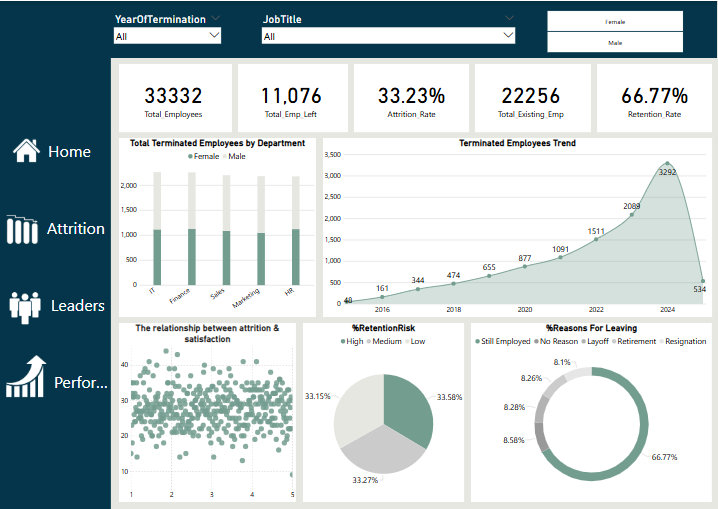

The dashboard page shown, as its layout file describes it:
{"tool":"powerbi","page":{"name":"Attrition","canvas":[2400,1700],"ordinal":1},"visuals":[{"type":"shape","box":[0,0,371.5,1700],"z":0},{"type":"card","fields":{"Values":["Measures (2).Total_Existing_Emp"]},"box":[1589.6,210.8,388.2,227.6],"z":1000},{"type":"card","fields":{"Values":["Measures (2).Total_Emp_Left"]},"box":[796.5,210.8,368.1,227.6],"z":2000},{"type":"card","fields":{"Values":["Measures (2).Total_Employees"]},"box":[398.2,210.8,378.1,227.6],"z":3000},{"type":"shape","box":[354.7,0,2044.7,190.7],"z":4000},{"type":"columnChart","title":"Total Terminated Employees by Department","fields":{"Category":["HR Data1.Department"],"Series":["HR Data1.Gender"],"Y":["CountNonNull(HR Data1.EmploymentStatus)"]},"box":[398.2,458.5,659.3,599],"z":5000},{"type":"areaChart","title":"Terminated Employees Trend","fields":{"Y":["CountNonNull(HR Data1.EmployeeName)"],"Category":["HR Data1.YearOfTermination"]},"box":[1080.9,458.5,1301.8,599],"z":6000},{"type":"donutChart","title":"%Reasons For Leaving","fields":{"Y":["CountNonNull(HR Data1.EmployeeName)"],"Category":["HR Data1.ReasonForLeaving"]},"box":[1576.2,1077.6,806.5,599],"z":7000},{"type":"slicer","fields":{"Values":["HR Data1.YearOfTermination"]},"box":[371.5,33.5,378.1,140.6],"z":8000},{"type":"slicer","fields":{"Values":["HR Data1.Gender"]},"box":[1807.1,26.8,502,150.6],"z":9000},{"type":"image","box":[26.8,438.4,123.8,123.8],"z":10000},{"type":"slicer","fields":{"Values":["HR Data1.JobTitle"]},"box":[866.7,33.5,866.7,140.6],"z":11000},{"type":"actionButton","box":[150.6,438.4,157.3,123.8],"z":12000},{"type":"actionButton","box":[150.6,1211.4,220.9,123.8],"z":13000},{"type":"image","box":[0,920.3,164,227.6],"z":14000},{"type":"actionButton","box":[150.6,953.7,204.1,123.8],"z":15000},{"type":"image","box":[0,659.3,150.6,200.8],"z":16000},{"type":"actionButton","box":[150.6,696.1,204.1,123.8],"z":17000},{"type":"pieChart","title":"%RetentionRisk","fields":{"Category":["HR Data1.RetentionRisk"],"Y":["CountNonNull(HR Data1.EmployeeName)"]},"box":[1014,1077.6,538.8,599],"z":18000},{"type":"scatterChart","title":"The relationship between attrition & satisfaction","fields":{"Y":["HR Data1.Total_Employees_Left"],"X":["HR Data1.JobSatisfactionScore"]},"box":[398.2,1077.6,592.3,599],"z":19000},{"type":"card","fields":{"Values":["Measures (2).Retention_Rate"]},"box":[1997.8,210.8,384.8,227.6],"z":20000},{"type":"card","fields":{"Values":["Measures (2).Attrition_Rate"]},"box":[1184.6,210.8,384.8,227.6],"z":21000},{"type":"image","box":[13.4,1174.6,150.6,160.6],"z":22000}]}

Visuals, with their boxes on the page's 2400x1700 design canvas (x1, y1, x2, y2). These are canvas units, not pixel positions in the 718x509 screenshot, which may show the page scaled, cropped or inside an application window:
shape: bbox=(0, 0, 372, 1700)
card - Measures (2).Total_Existing_Emp: bbox=(1590, 211, 1978, 438)
card - Measures (2).Total_Emp_Left: bbox=(796, 211, 1165, 438)
card - Measures (2).Total_Employees: bbox=(398, 211, 776, 438)
shape: bbox=(355, 0, 2399, 191)
"Total Terminated Employees by Department" columnChart: bbox=(398, 458, 1058, 1058)
"Terminated Employees Trend" areaChart: bbox=(1081, 458, 2383, 1058)
"%Reasons For Leaving" donutChart: bbox=(1576, 1078, 2383, 1677)
slicer - HR Data1.YearOfTermination: bbox=(372, 34, 750, 174)
slicer - HR Data1.Gender: bbox=(1807, 27, 2309, 177)
image: bbox=(27, 438, 151, 562)
slicer - HR Data1.JobTitle: bbox=(867, 34, 1733, 174)
actionButton: bbox=(151, 438, 308, 562)
actionButton: bbox=(151, 1211, 372, 1335)
image: bbox=(0, 920, 164, 1148)
actionButton: bbox=(151, 954, 355, 1078)
image: bbox=(0, 659, 151, 860)
actionButton: bbox=(151, 696, 355, 820)
"%RetentionRisk" pieChart: bbox=(1014, 1078, 1553, 1677)
"The relationship between attrition & satisfaction" scatterChart: bbox=(398, 1078, 990, 1677)
card - Measures (2).Retention_Rate: bbox=(1998, 211, 2383, 438)
card - Measures (2).Attrition_Rate: bbox=(1185, 211, 1569, 438)
image: bbox=(13, 1175, 164, 1335)
